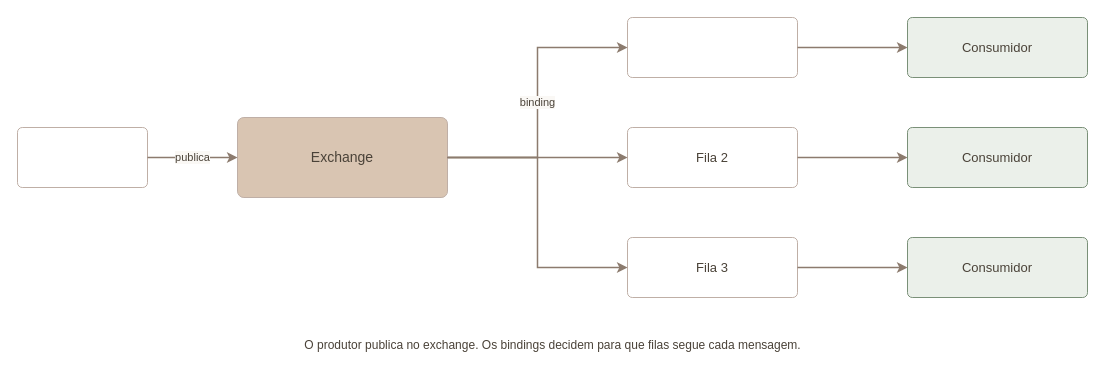
This 1105x381 diagram has some shape labels left out. Each missing label, with the centre of its shape:
"Fila 1" belongs at point 712,47.
"Produtor" belongs at point 82,157.
